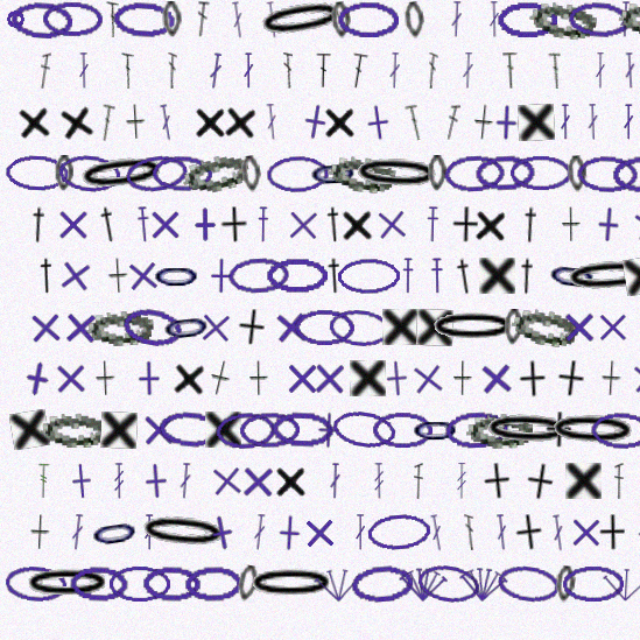chain: (233, 72, 315, 115), (79, 206, 160, 246), (132, 515, 212, 552), (497, 296, 577, 332), (316, 209, 395, 243), (484, 429, 563, 463), (169, 204, 231, 247), (428, 429, 507, 462), (382, 342, 460, 373), (34, 562, 112, 593), (226, 562, 304, 593), (452, 338, 513, 377), (468, 75, 528, 113), (298, 426, 356, 465), (371, 558, 429, 597), (118, 338, 174, 377), (121, 207, 178, 245), (440, 559, 496, 597), (296, 208, 355, 244), (545, 76, 604, 111), (296, 340, 351, 376), (89, 341, 147, 375), (329, 516, 385, 551), (64, 208, 119, 243), (150, 428, 205, 463), (315, 560, 370, 595), (18, 561, 74, 595), (23, 77, 78, 111), (501, 77, 556, 111), (111, 77, 165, 111), (199, 429, 253, 463), (415, 430, 472, 462), (19, 209, 74, 242), (396, 429, 451, 462), (395, 209, 449, 242), (247, 429, 301, 462), (50, 430, 107, 461), (243, 210, 298, 242), (422, 209, 475, 242), (210, 297, 263, 330), (304, 298, 358, 330), (145, 210, 198, 242), (509, 210, 562, 242), (540, 210, 593, 242), (521, 430, 574, 462), (90, 516, 137, 552), (220, 430, 272, 462), (74, 562, 126, 594), (51, 78, 104, 109), (304, 78, 357, 109), (452, 210, 505, 241), (243, 298, 296, 329), (267, 342, 320, 373), (108, 562, 161, 593), (497, 562, 550, 593), (137, 562, 188, 594), (173, 562, 224, 594), (441, 78, 493, 109), (334, 430, 386, 461), (483, 296, 529, 331), (152, 340, 198, 375), (279, 209, 323, 242), (145, 298, 188, 329), (367, 430, 410, 461), (217, 561, 238, 594), (298, 78, 317, 110), (361, 78, 380, 110), (221, 210, 240, 242), (501, 210, 519, 242), (491, 562, 509, 594), (154, 78, 171, 109), (447, 342, 464, 373), (62, 210, 78, 241), (382, 210, 398, 241)
double: (314, 122, 331, 154), (98, 166, 114, 198), (362, 166, 378, 198), (150, 166, 165, 198), (382, 518, 397, 550), (212, 78, 226, 110), (193, 122, 207, 154), (487, 518, 501, 550), (446, 122, 460, 153), (396, 166, 410, 197), (242, 78, 255, 110), (182, 78, 195, 109), (286, 122, 299, 153), (75, 518, 88, 549), (231, 518, 244, 549), (439, 518, 452, 549), (485, 122, 497, 153), (242, 166, 254, 197), (168, 474, 180, 505), (106, 78, 117, 109), (401, 78, 412, 109), (546, 78, 557, 109), (48, 122, 59, 153), (119, 122, 130, 153), (348, 122, 359, 153), (380, 122, 391, 153), (411, 122, 422, 153), (550, 122, 561, 153), (518, 166, 529, 197), (297, 474, 308, 505), (434, 78, 444, 109), (82, 122, 92, 153), (223, 122, 233, 153), (525, 122, 535, 153), (572, 122, 582, 153), (495, 166, 505, 197), (549, 166, 559, 197), (138, 518, 148, 549), (319, 518, 329, 549), (413, 518, 423, 549), (158, 122, 167, 153), (258, 122, 266, 153), (370, 474, 378, 505), (542, 474, 550, 505)
fan: (408, 561, 451, 595), (531, 561, 573, 594), (284, 562, 326, 594), (357, 562, 399, 594)
half_double: (97, 253, 119, 286), (403, 298, 424, 330), (38, 254, 58, 286), (460, 254, 480, 286), (457, 298, 477, 330), (292, 254, 311, 285), (46, 298, 64, 329), (293, 298, 311, 329), (131, 254, 145, 285), (380, 254, 392, 285), (359, 298, 371, 329), (384, 298, 396, 329), (235, 254, 246, 285)
noise: (609, 226, 636, 253), (600, 171, 627, 198), (609, 119, 630, 140), (613, 315, 633, 335), (19, 84, 37, 102)
single: (554, 252, 590, 288), (29, 384, 65, 420), (187, 516, 223, 552), (268, 164, 303, 199), (62, 296, 97, 331), (549, 296, 584, 331), (23, 428, 58, 463), (64, 164, 98, 199), (322, 165, 356, 199), (365, 385, 399, 419), (554, 517, 588, 551), (520, 253, 553, 286), (121, 297, 154, 330), (248, 341, 281, 374), (339, 385, 372, 418), (424, 385, 457, 418), (554, 385, 587, 418), (132, 473, 165, 506), (193, 473, 226, 506), (335, 253, 367, 286), (69, 473, 101, 506), (433, 166, 465, 198), (459, 166, 491, 198), (259, 254, 291, 286), (38, 342, 70, 374), (68, 342, 100, 374), (184, 342, 216, 374), (372, 342, 404, 374), (101, 430, 133, 462), (281, 430, 313, 462), (220, 474, 252, 506), (247, 518, 279, 550), (273, 518, 305, 550), (29, 165, 60, 198), (206, 165, 237, 198), (562, 341, 593, 374), (162, 385, 193, 418), (62, 254, 93, 285), (141, 254, 172, 285), (175, 254, 206, 285), (189, 298, 220, 329), (426, 298, 457, 329), (343, 342, 374, 373), (496, 342, 527, 373), (525, 342, 556, 373), (60, 386, 91, 417), (127, 386, 158, 417), (282, 386, 313, 417), (315, 386, 346, 417), (191, 430, 222, 461), (500, 474, 531, 505), (502, 518, 533, 549), (421, 254, 451, 286), (464, 473, 492, 507), (259, 386, 289, 417), (136, 430, 166, 461), (181, 166, 210, 197), (292, 166, 321, 197), (307, 254, 336, 285), (250, 474, 279, 505), (568, 165, 595, 198), (217, 341, 244, 374), (491, 385, 518, 418), (455, 517, 482, 550), (428, 473, 454, 506), (459, 386, 484, 418), (203, 254, 228, 285), (402, 254, 426, 285), (482, 430, 506, 461), (528, 518, 552, 549), (193, 385, 215, 418), (421, 166, 439, 198), (123, 166, 140, 197), (108, 298, 125, 329), (97, 386, 114, 417), (531, 386, 548, 417), (41, 518, 58, 549), (497, 254, 513, 285), (229, 386, 245, 417), (404, 386, 420, 417)
treble: (575, 34, 591, 66), (246, 34, 260, 66), (101, 34, 113, 65), (302, 34, 314, 65), (335, 34, 347, 65), (431, 34, 443, 65), (521, 34, 533, 65), (555, 34, 567, 65), (567, 474, 579, 505), (40, 34, 51, 65), (133, 34, 144, 65), (179, 34, 190, 65), (274, 34, 285, 65), (371, 34, 382, 65), (491, 34, 502, 65), (47, 474, 58, 505), (71, 34, 81, 65), (160, 34, 170, 65), (213, 34, 223, 65), (403, 34, 413, 65), (457, 34, 467, 65), (112, 474, 122, 505), (335, 474, 345, 505), (406, 474, 416, 505)
